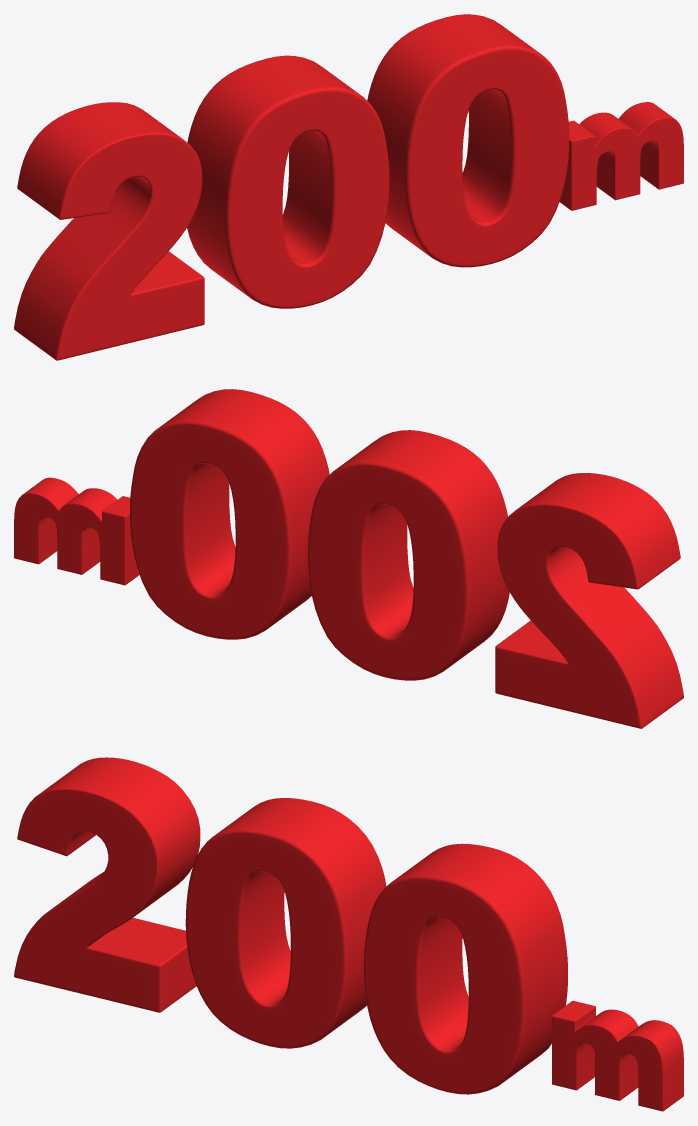
3 renders of one model, top to bottom at view 1: azimuth 30°, elevation 25°; view 2: azimuth 150°, elevation 25°; view 3: azimuth 330°, elevation 25°, orthographic.
Parts seen in each view (by area): view 1: node_id36, node_id52, node_id115, node_id76; view 2: node_id36, node_id52, node_id115, node_id76; view 3: node_id52, node_id36, node_id115, node_id76.
Part boxes in pixels (box(x1,y1,x2,y2)): node_id36: box(187, 55, 389, 308); node_id52: box(367, 14, 569, 267); node_id115: box(14, 102, 204, 360); node_id76: box(559, 102, 683, 210); node_id36: box(308, 430, 509, 680); node_id52: box(130, 389, 329, 639); node_id115: box(495, 473, 683, 728); node_id76: box(14, 477, 139, 585); node_id52: box(363, 843, 567, 1094); node_id36: box(185, 798, 386, 1048); node_id115: box(14, 757, 200, 1012); node_id76: box(552, 1000, 683, 1111).
Size of the model in its own units: 0.5094 by 0.1655 by 0.0647.
Materials: 4 (4 with a texture image).
